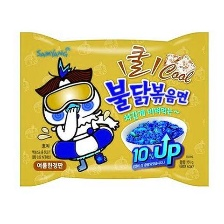snack: (8, 24, 216, 191)
